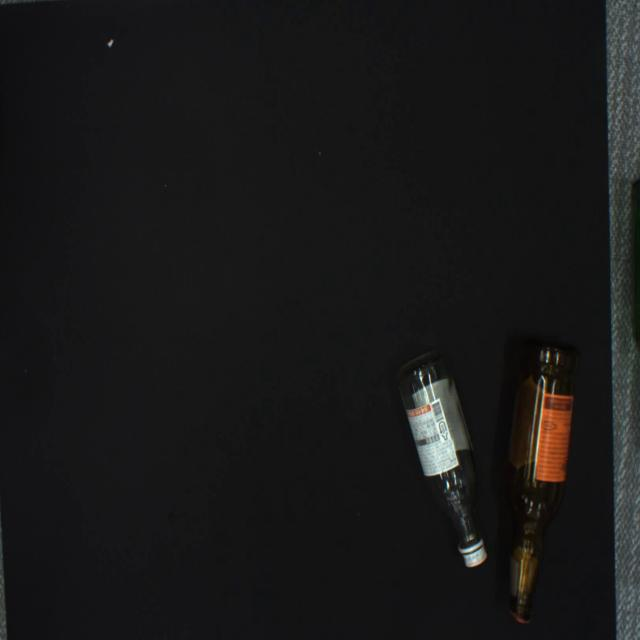beer-bottle: (502, 338, 579, 624)
soju-bottle: (396, 351, 486, 567)
